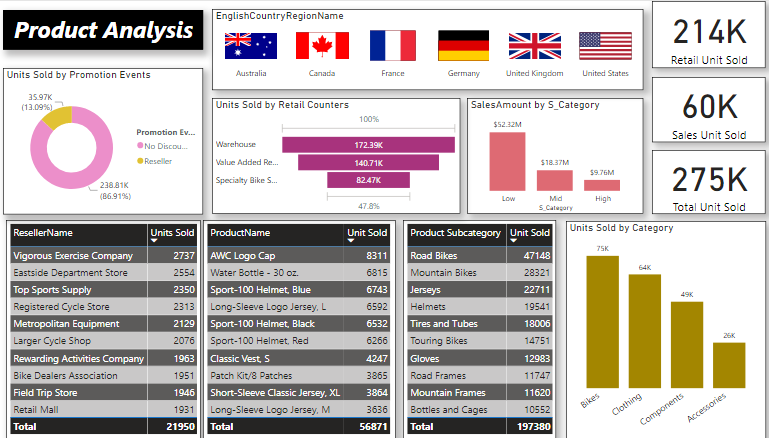

This screenshot's page, from the dashboard's own definition file:
{"tool":"powerbi","page":{"name":"Dashboard","canvas":[1280,720],"ordinal":0},"visuals":[{"type":"clusteredColumnChart","fields":{"Category":["RetailSales.S_Category"],"Y":["Sum(RetailSales.SalesAmount)"]},"box":[779.2,158.7,288.6,190.5],"z":0},{"type":"enlightenWorldFlagsE887F52F76244B1C927F80CF9724AEF6","fields":{"code":["Region.EnglishCountryRegionName"]},"box":[360.7,13,707,132.7],"z":1000},{"type":"card","fields":{"Values":["All Measures.Retail Unit Sold"]},"box":[1082.3,0,185.8,110],"z":2000},{"type":"card","fields":{"Values":["All Measures.Sales Unit Sold"]},"box":[1082.3,124.9,185.8,107],"z":3000},{"type":"card","fields":{"Values":["All Measures.Total Unit Sold"]},"box":[1082.2,243.8,186.1,105.3],"z":4000},{"type":"clusteredColumnChart","fields":{"Category":["Product Category.ProductCategory"],"Y":["All Measures.Retail Unit Sold"]},"box":[940.8,360.7,327.5,359.3],"z":5000},{"type":"tableEx","fields":{"Values":["RetailsCounters.ResellerName","All Measures.Retail Unit Sold"]},"box":[23.1,359.3,318.9,360.7],"z":5001},{"type":"tableEx","fields":{"Values":["Product.EnglishProductName","All Measures.Total Unit Sold"]},"box":[346.3,359.3,316,360.7],"z":5002},{"type":"tableEx","fields":{"Values":["Product Sub-Category.Subcategory","All Measures.Total Unit Sold"]},"box":[673.8,359.3,251.1,360.7],"z":5003},{"type":"donutChart","fields":{"Category":["Product Promotion.EnglishPromotionCategory"],"Y":["All Measures.Total Unit Sold"]},"box":[18.8,109.7,327.5,239.5],"z":5004},{"type":"funnel","fields":{"Category":["RetailsCounters.BusinessType"],"Y":["All Measures.Total Unit Sold"]},"box":[360.7,158.7,406.9,190.5],"z":5005},{"type":"textbox","box":[18.8,14.4,327.5,64.9],"z":5006}]}

Visuals, with their boxes in screenshot pixels (x1, y1, x2, y2), scaled from the page's 1280x720 canvas onto the 769x438 screenshot:
clusteredColumnChart - RetailSales.S_Category x Sum(RetailSales.SalesAmount): 468/97/642/212
enlightenWorldFlagsE887F52F76244B1C927F80CF9724AEF6 - Region.EnglishCountryRegionName: 217/8/641/89
card - All Measures.Retail Unit Sold: 650/0/762/67
card - All Measures.Sales Unit Sold: 650/76/762/141
card - All Measures.Total Unit Sold: 650/148/762/212
clusteredColumnChart - Product Category.ProductCategory x All Measures.Retail Unit Sold: 565/219/762/437
tableEx - RetailsCounters.ResellerName x All Measures.Retail Unit Sold: 14/219/205/437
tableEx - Product.EnglishProductName x All Measures.Total Unit Sold: 208/219/398/437
tableEx - Product Sub-Category.Subcategory x All Measures.Total Unit Sold: 405/219/556/437
donutChart - Product Promotion.EnglishPromotionCategory x All Measures.Total Unit Sold: 11/67/208/212
funnel - RetailsCounters.BusinessType x All Measures.Total Unit Sold: 217/97/461/212
textbox: 11/9/208/48
